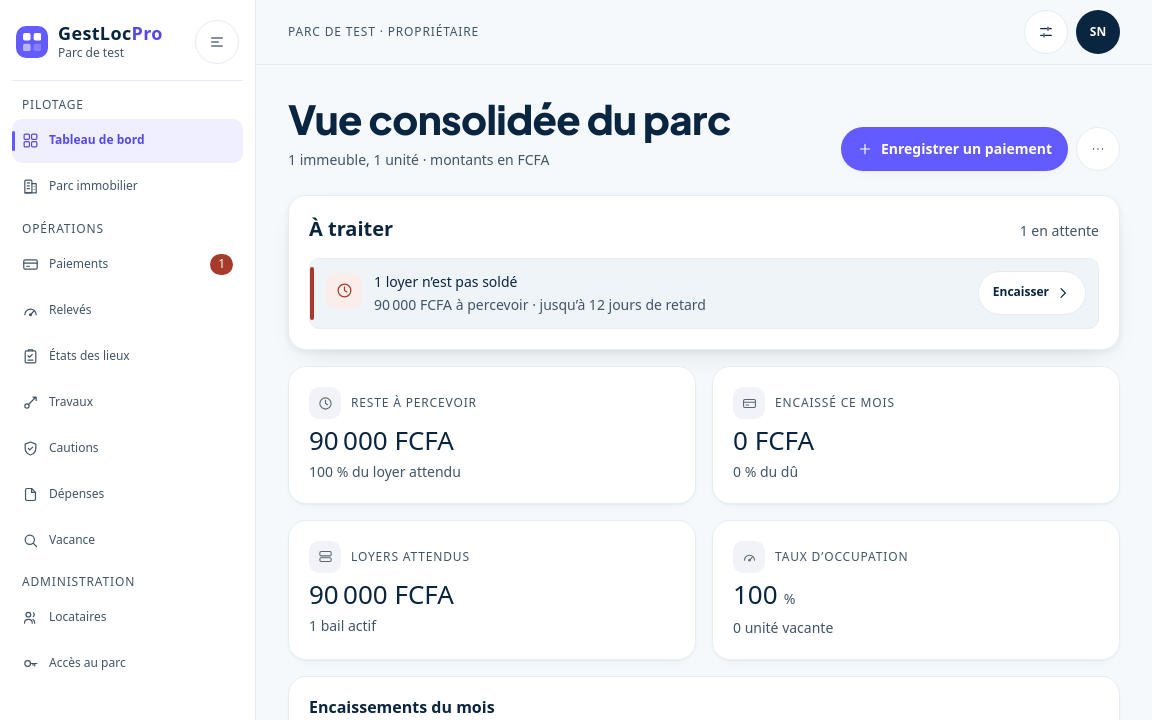
Test case: les actions d’en-tête › n’ouvre jamais un menu VIDE
Click the button named "Autres actions". click: (1098, 149)
box: [1076,127,1120,171]
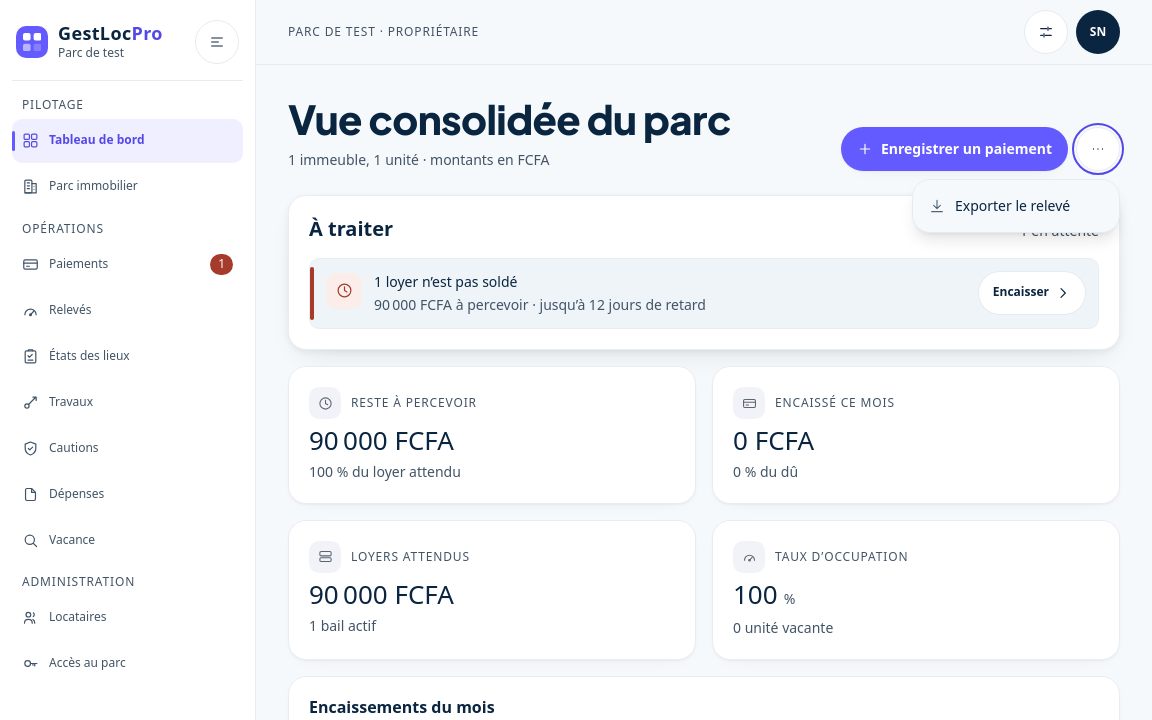
Result: the menu item "Exporter le relevé" is shown at [917,184,1115,228]
